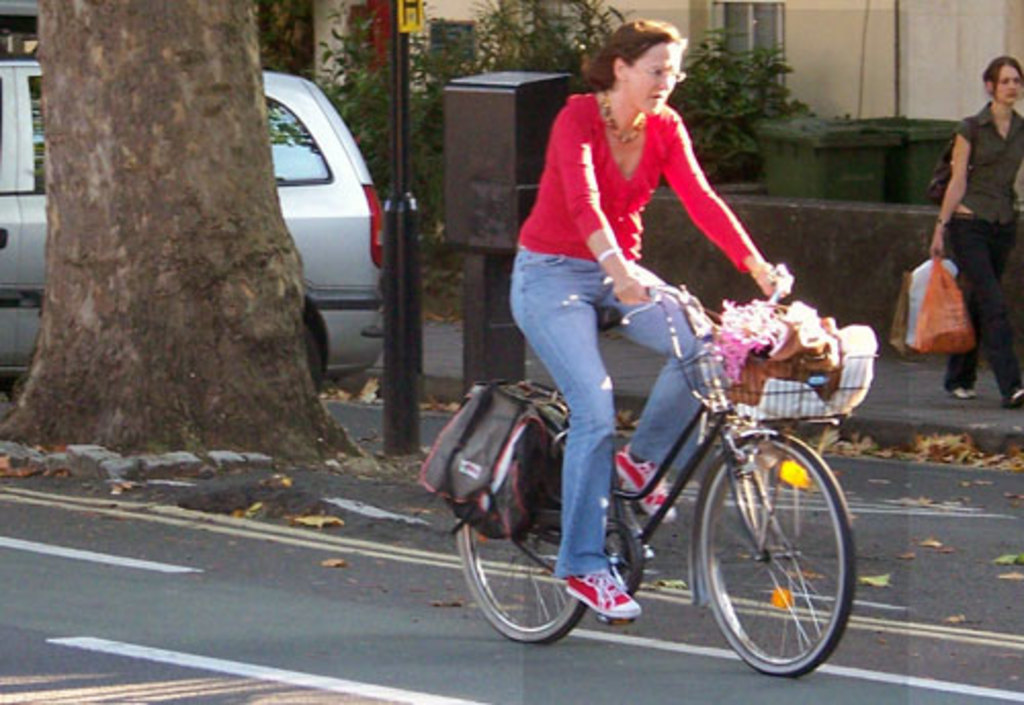Bike: (422, 266, 884, 676)
